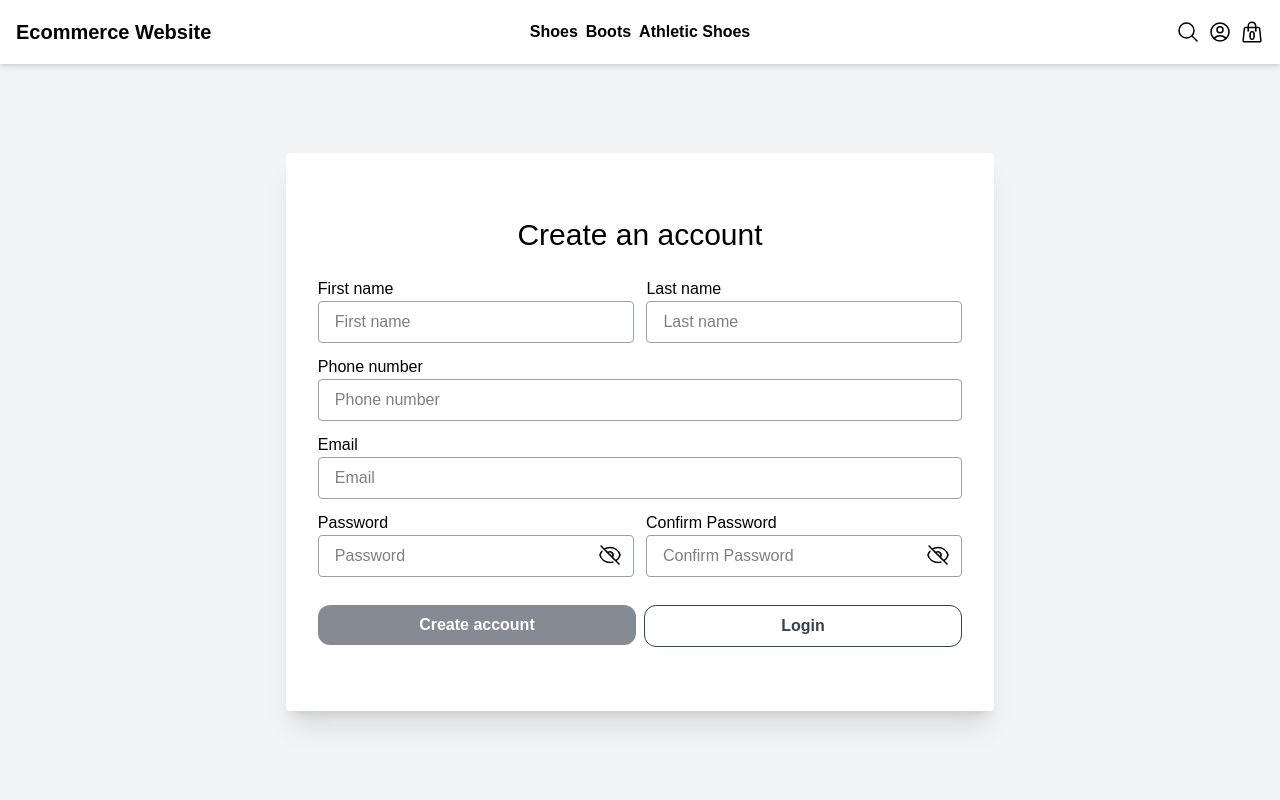
Test: Register functionality › should show an error message if a user tries to register with an email already in use
This screenshot has width=1280, height=800.
Step 1. Type "email@test.com" into the field with test id "emailInput" → coordinates (640, 478), box [318,457,962,499]
Step 2. Type "LastName" into the field with test id "lastNameInput" → coordinates (804, 322), box [646,301,962,343]
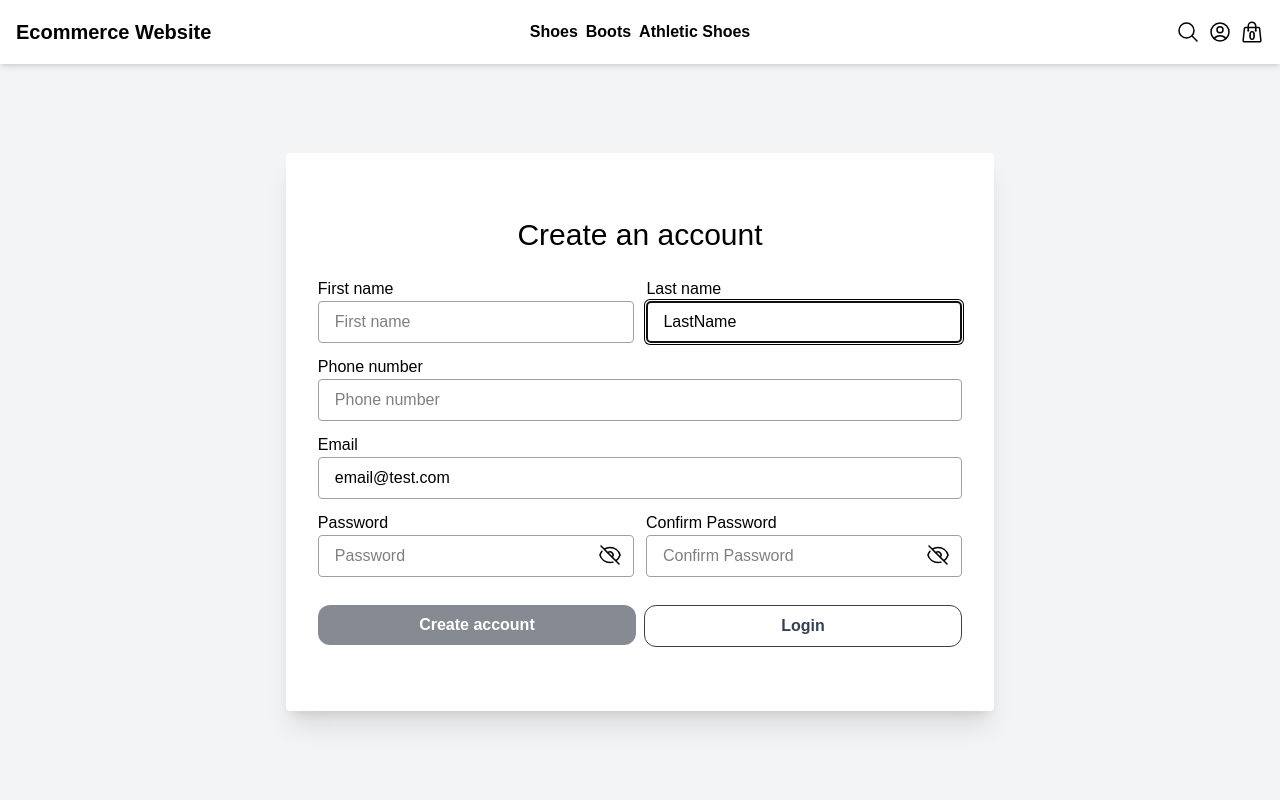
Step 3. Type "FirstName" into the field with test id "firstNameInput" → coordinates (477, 322), box [318,301,635,343]
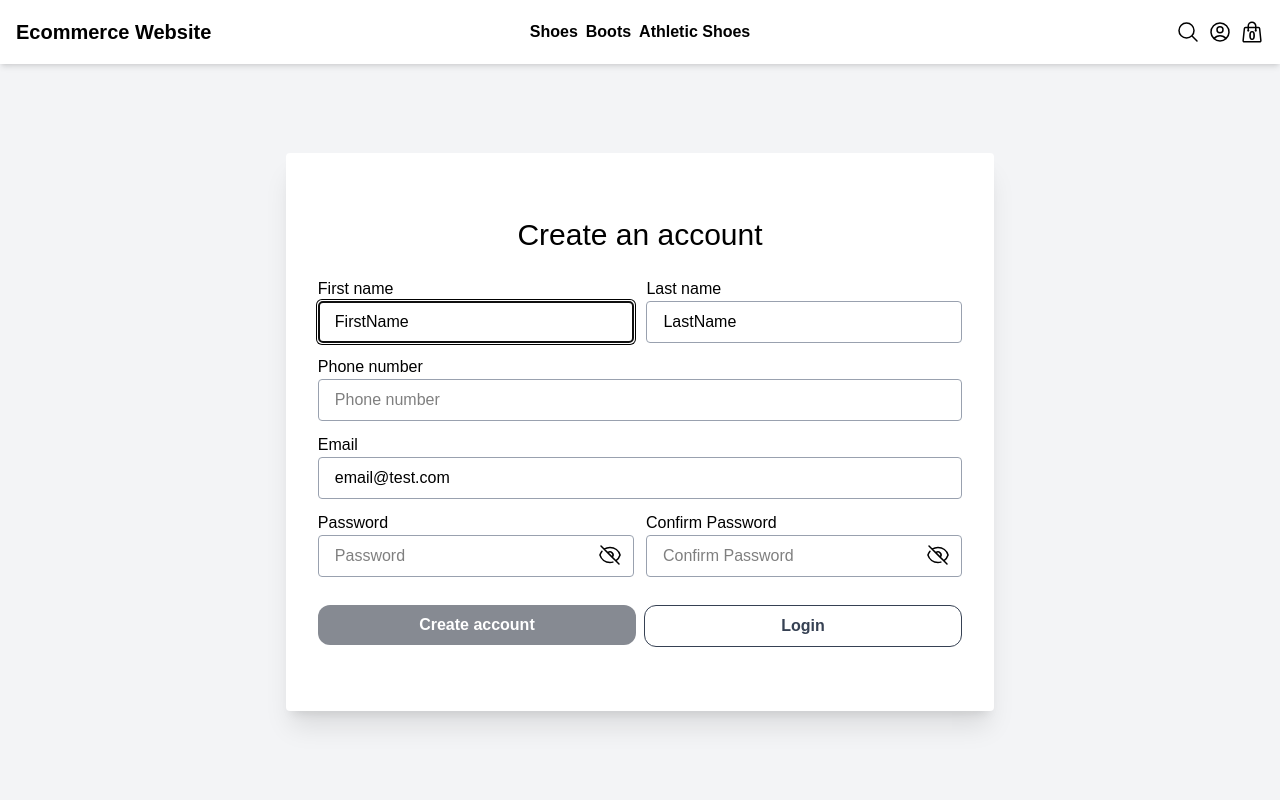
Step 4. Type "1231231231" into the field with test id "phoneNumberInput" → coordinates (640, 400), box [318,379,962,421]
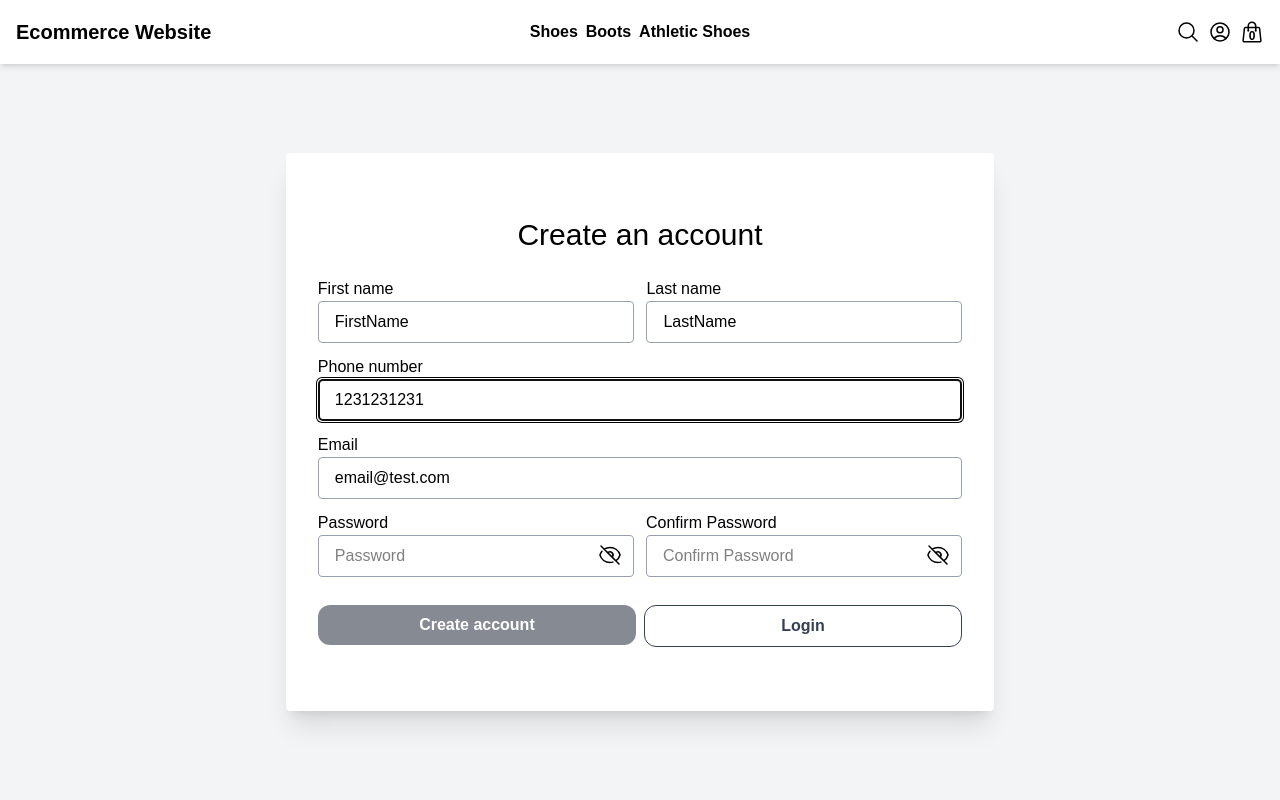
Step 5. Type "password123123123" into the password field with test id "passwordInput" → coordinates (476, 556), box [318,535,634,577]
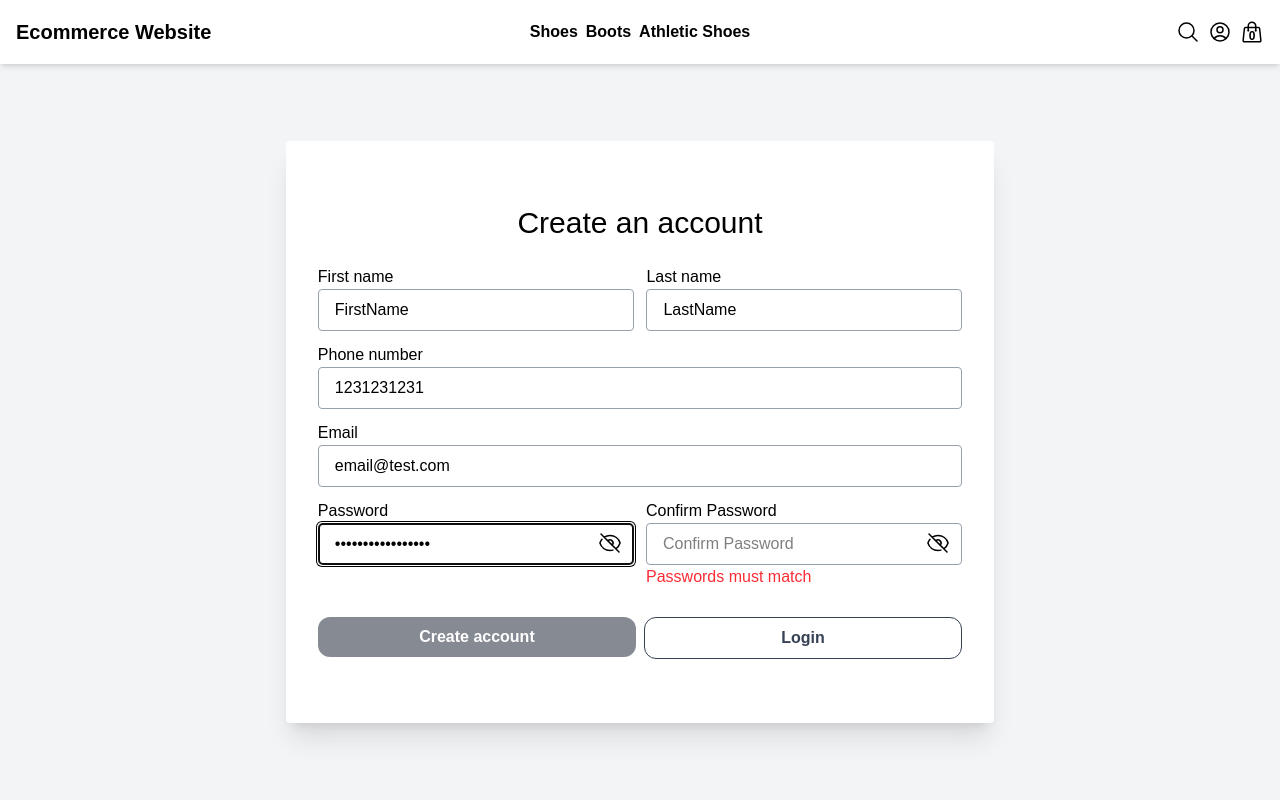
Step 6. Type "password123123123" into the password field with test id "confirmPasswordInput" → coordinates (804, 544), box [646,523,962,565]
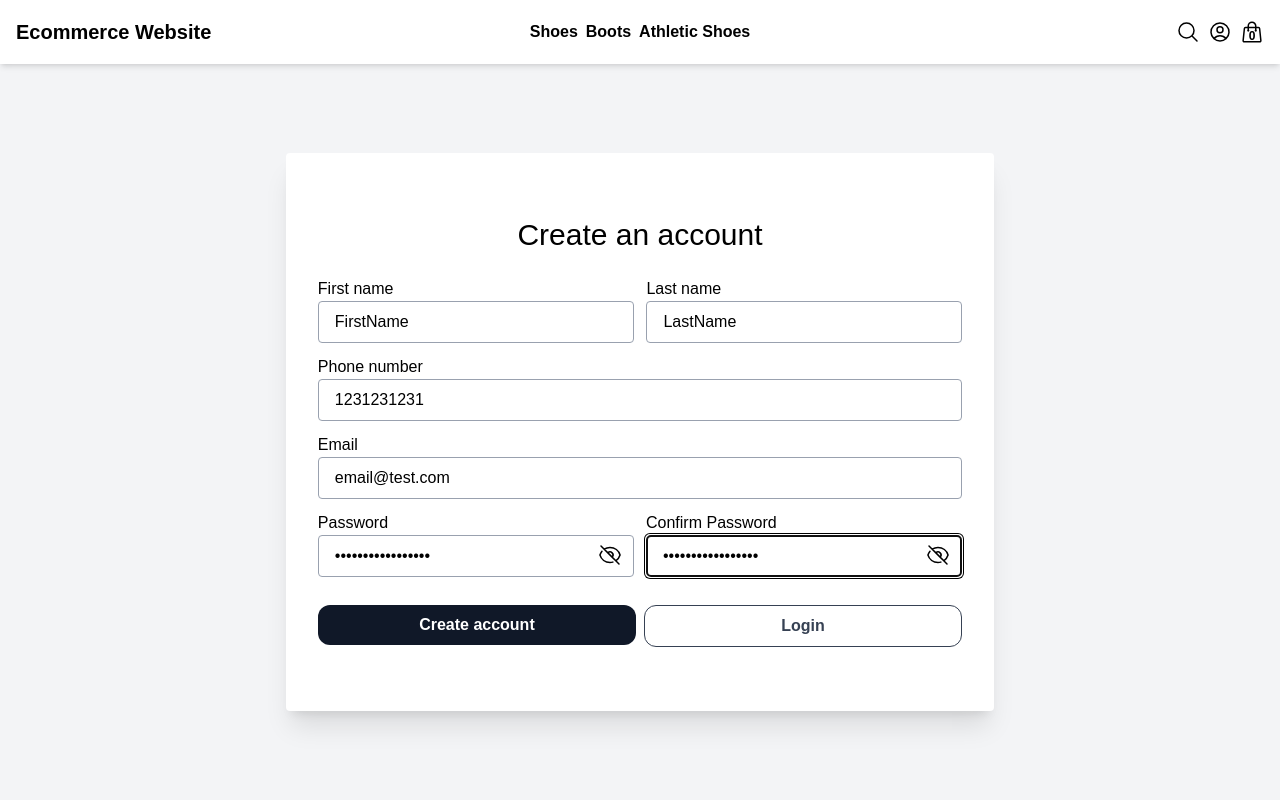
Step 7. Click the button with test id "createAccountButton" → coordinates (477, 625), box [318,605,636,645]
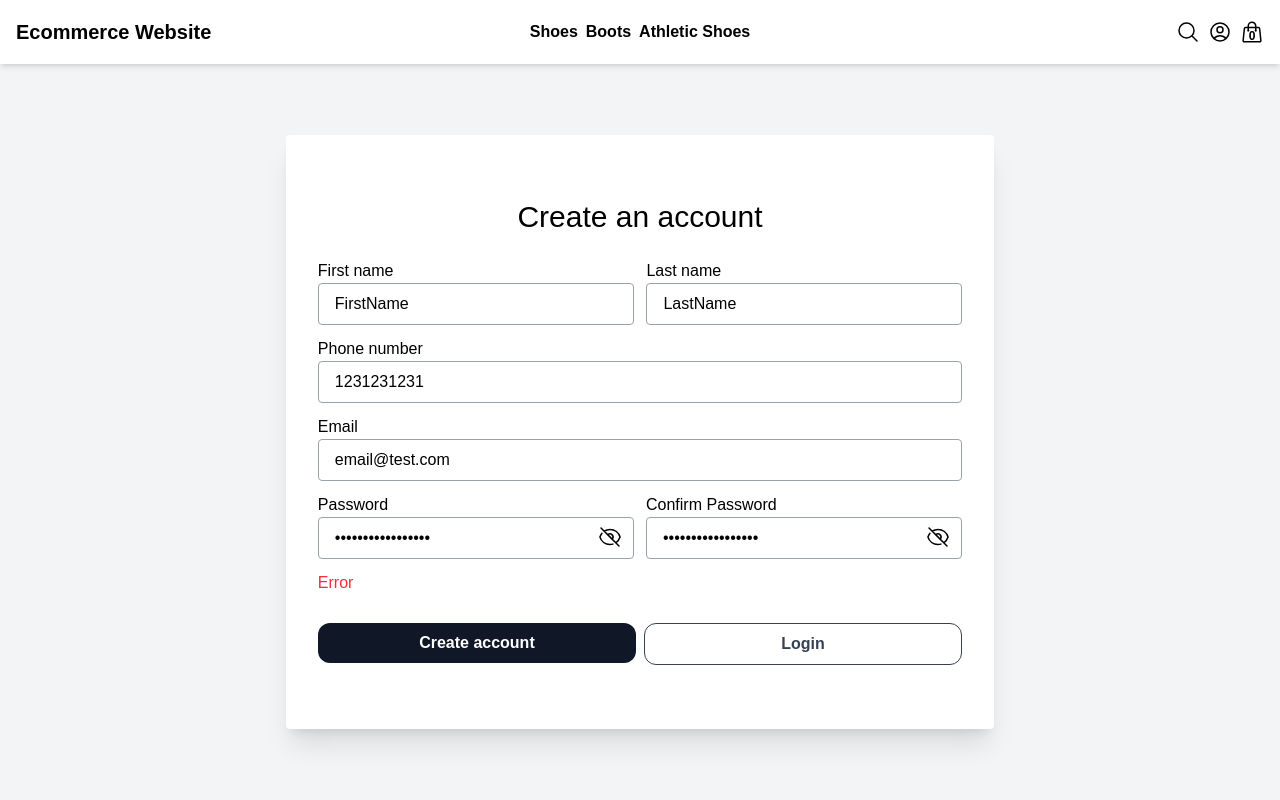
Check: the text "Error" is shown, box [318,574,353,591]
